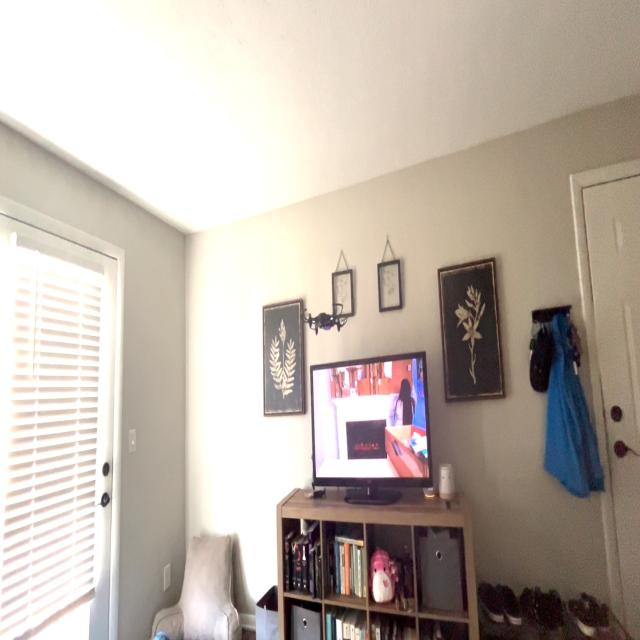drone: (289, 286, 353, 346)
